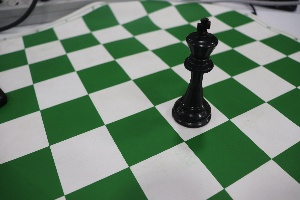black_king: (173, 7, 217, 132)
